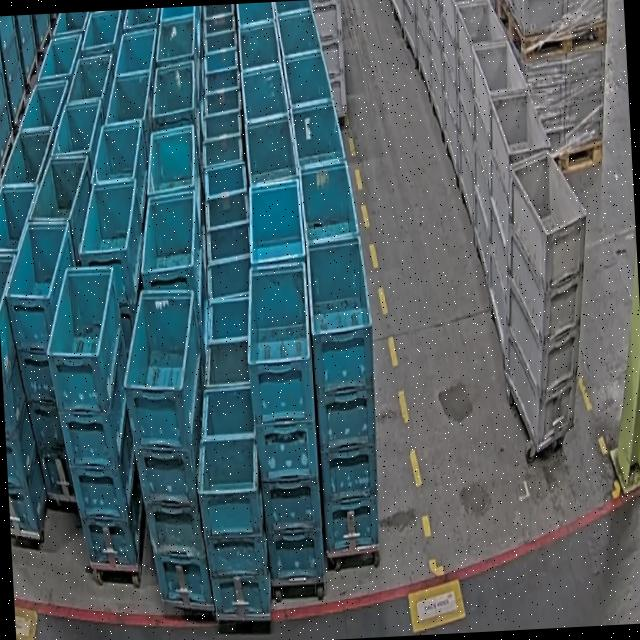4G: (492, 147, 600, 457)
B4: (116, 287, 218, 615), (41, 264, 148, 575), (244, 263, 328, 586), (0, 218, 89, 505), (304, 236, 383, 554), (0, 252, 51, 540)
B8: (192, 386, 272, 622)
